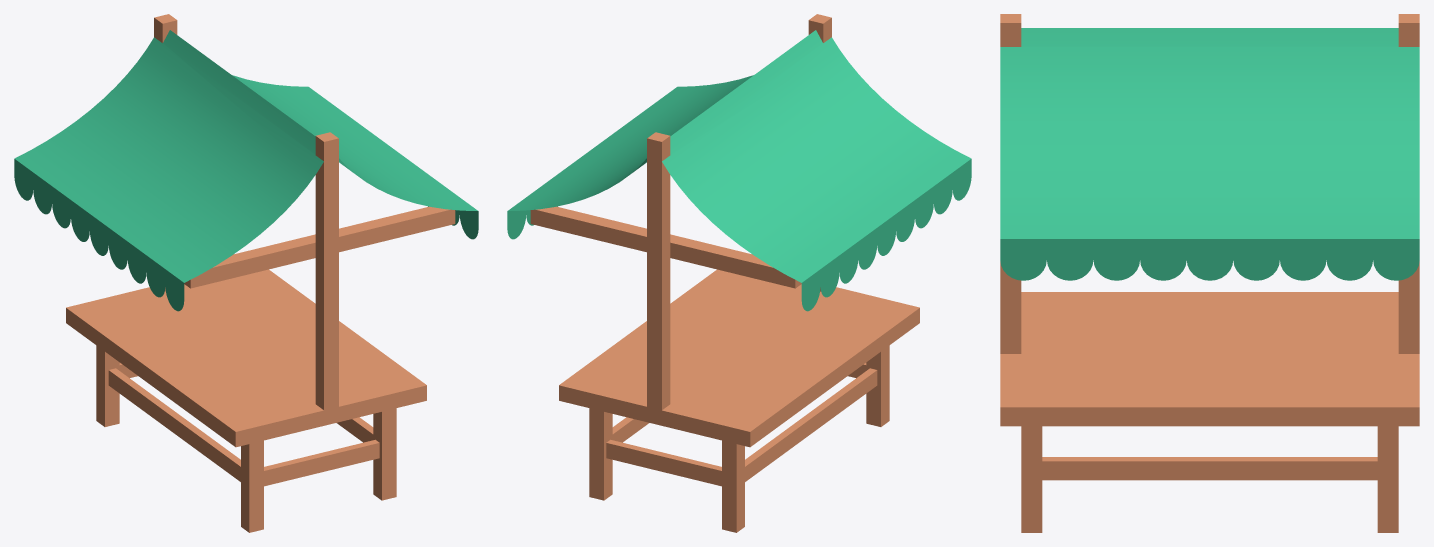
Rendered from stallGreen.obj.
3 views of the same model, side by side, from view 1: azimuth 30°, elevation 25°; view 2: azimuth 150°, elevation 25°; view 3: azimuth 270°, elevation 25° (orthographic). The views are drawn at different scales.
Parts seen in each view (by area): view 1: stallGreen; view 2: stallGreen; view 3: stallGreen.
Boxes of the visible parts, <box> form: stallGreen: <box>14,14,478,532</box>; stallGreen: <box>507,14,971,532</box>; stallGreen: <box>1000,14,1419,532</box>.
Bounding box in the file's own units: 1 × 1.24 × 1.
